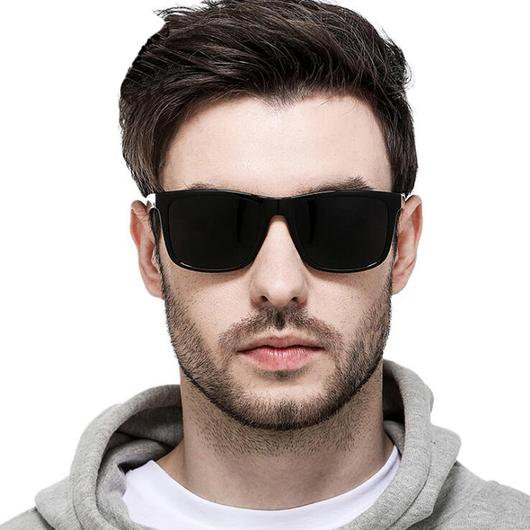noMask: (98, 4, 439, 434)
